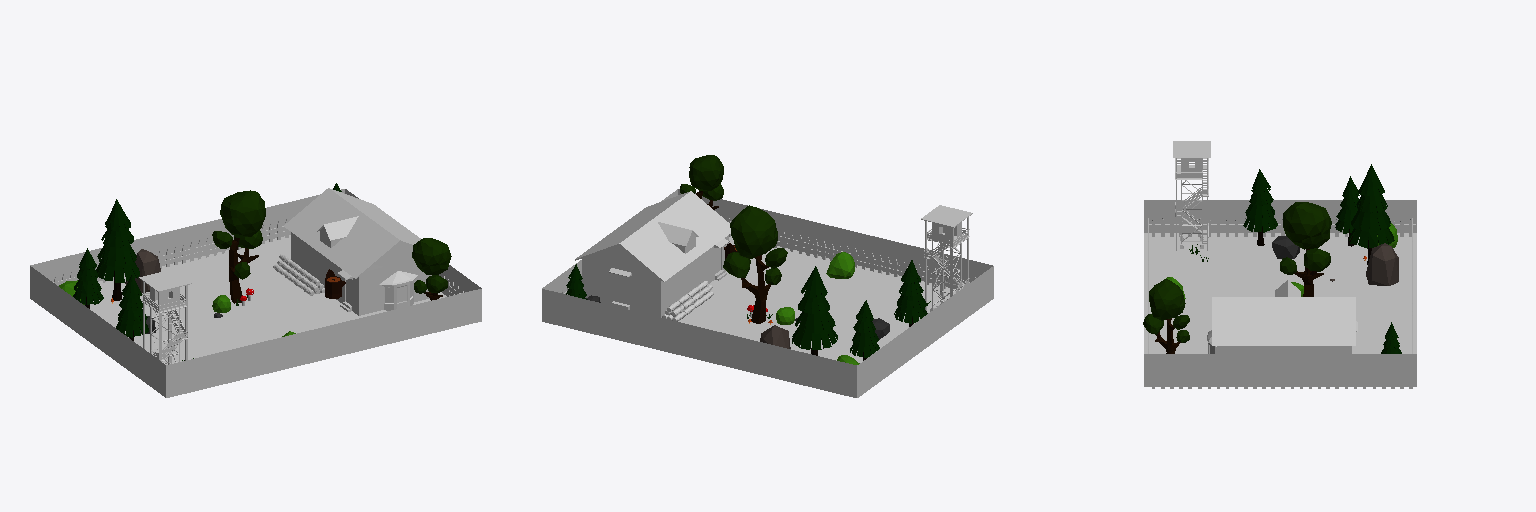
The model's file is map-test.obj.
3 renders of one model, left to right at view 1: azimuth 30°, elevation 25°; view 2: azimuth 150°, elevation 25°; view 3: azimuth 270°, elevation 25°, orthographic.
Parts seen in each view (by area): view 1: floorroom_Cube.005, woodcabin_Cube.002, Tree1.001_Cube.000, watchtowerHigh_watchtower, Tree2_Cylinder.024, Tree1_Cube.020, barrière_Plane.003, Tree2.001_Cylinder.005, Tree2.002_Cylinder.007, Rock4_Cylinder.019; view 2: floorroom_Cube.005, woodcabin_Cube.002, Tree1.001_Cube.000, watchtowerHigh_watchtower, Tree2_Cylinder.024, barrière_Plane.003, Tree1_Cube.020, Tree2.001_Cylinder.005, Tree2.002_Cylinder.007, Bush1_Icosphere.083; view 3: floorroom_Cube.005, woodcabin_Cube.002, Tree1.001_Cube.000, watchtowerHigh_watchtower, Tree2_Cylinder.024, Tree1_Cube.020, barrière_Plane.003, Tree2.001_Cylinder.005, Rock4_Cylinder.019, Tree2.002_Cylinder.007.
Boxes of the visible parts, box(x1,y1,x2,y2) form: floorroom_Cube.005: box(30, 189, 481, 397); woodcabin_Cube.002: box(284, 188, 431, 315); Tree1.001_Cube.000: box(212, 190, 265, 303); watchtowerHigh_watchtower: box(139, 269, 191, 364); Tree2_Cylinder.024: box(96, 199, 139, 300); Tree1_Cube.020: box(412, 238, 451, 300); barrière_Plane.003: box(48, 219, 463, 296); Tree2.001_Cylinder.005: box(116, 275, 148, 340); Tree2.002_Cylinder.007: box(73, 248, 103, 308); Rock4_Cylinder.019: box(125, 249, 160, 292); floorroom_Cube.005: box(542, 189, 993, 397); woodcabin_Cube.002: box(575, 191, 730, 317); Tree1.001_Cube.000: box(723, 205, 787, 323); watchtowerHigh_watchtower: box(921, 205, 972, 311); Tree2_Cylinder.024: box(792, 266, 837, 355); barrière_Plane.003: box(558, 218, 975, 294); Tree1_Cube.020: box(680, 155, 723, 209); Tree2.001_Cylinder.005: box(894, 260, 927, 326); Tree2.002_Cylinder.007: box(850, 300, 879, 360); Bush1_Icosphere.083: box(826, 252, 854, 278); floorroom_Cube.005: box(1144, 200, 1416, 386); woodcabin_Cube.002: box(1207, 280, 1357, 353); Tree1.001_Cube.000: box(1280, 202, 1331, 296); watchtowerHigh_watchtower: box(1173, 141, 1210, 250); Tree2_Cylinder.024: box(1349, 164, 1394, 264); Tree1_Cube.020: box(1143, 279, 1189, 353); barrière_Plane.003: box(1148, 218, 1415, 388); Tree2.001_Cylinder.005: box(1243, 169, 1277, 245); Rock4_Cylinder.019: box(1366, 243, 1398, 285); Tree2.002_Cylinder.007: box(1335, 176, 1359, 246).
Bounding box in the file's own units: 40 × 13.54 × 30.06.